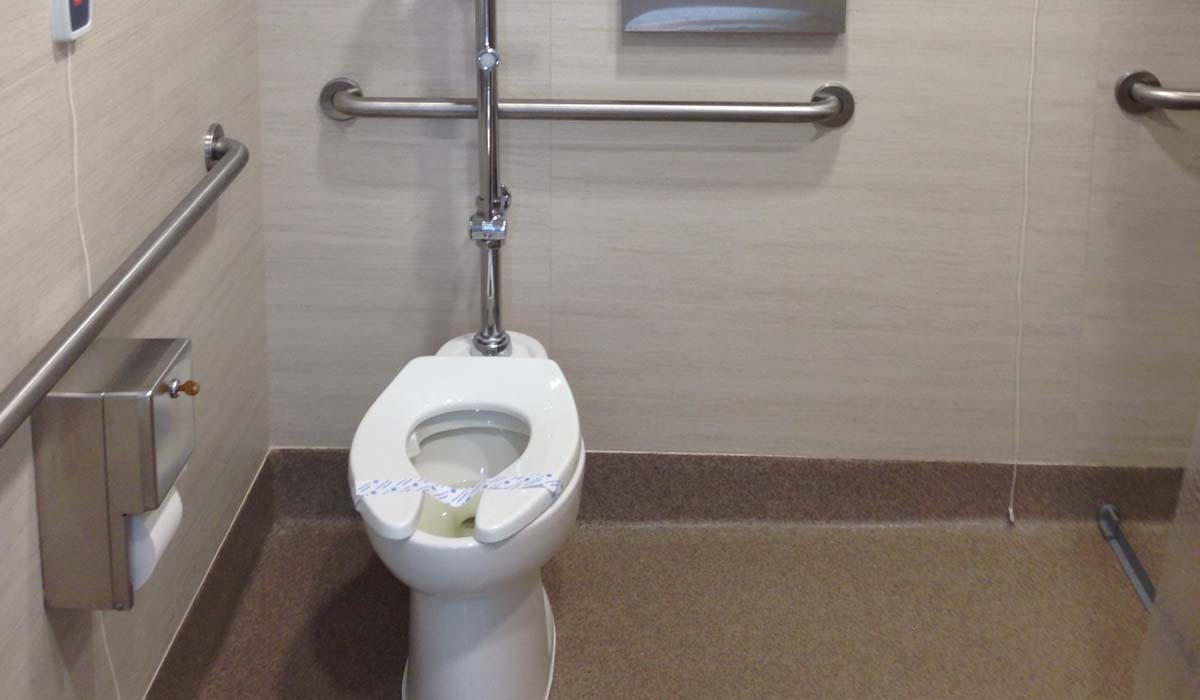dispenser: (28, 330, 203, 618)
restroom_assist_bar: (1, 124, 250, 491), (321, 79, 862, 126), (1115, 70, 1200, 116)
toilet: (347, 327, 587, 700)
